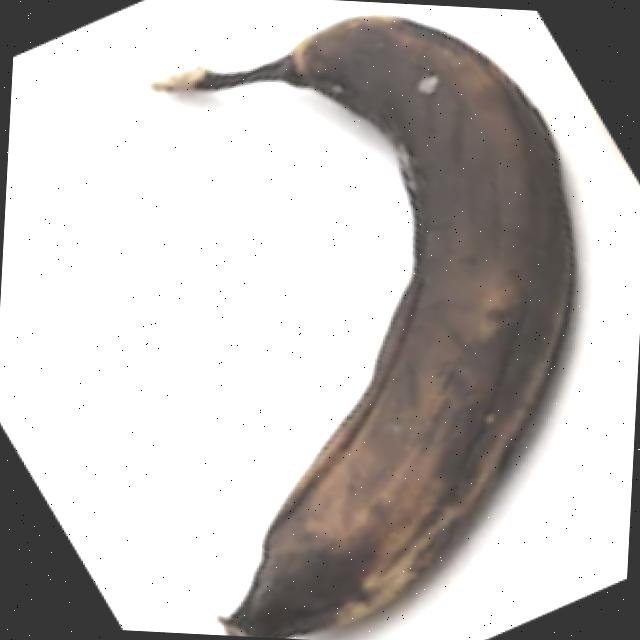Rotten: (93, 0, 610, 640)
